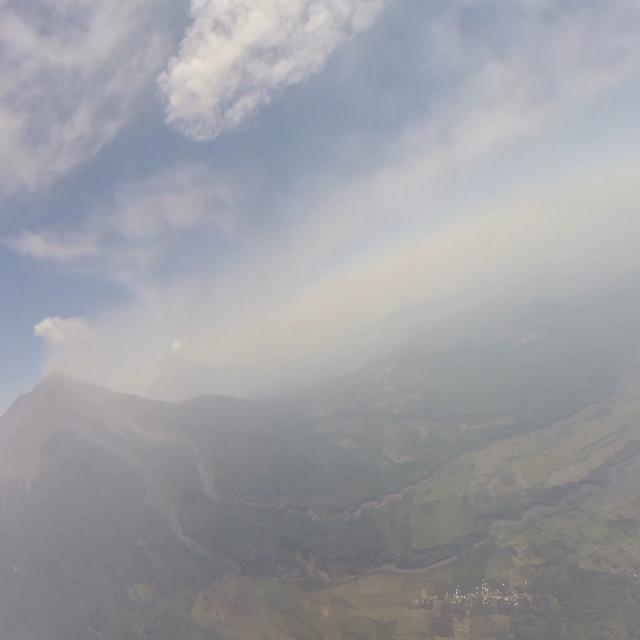Plume: (32, 312, 98, 374)
